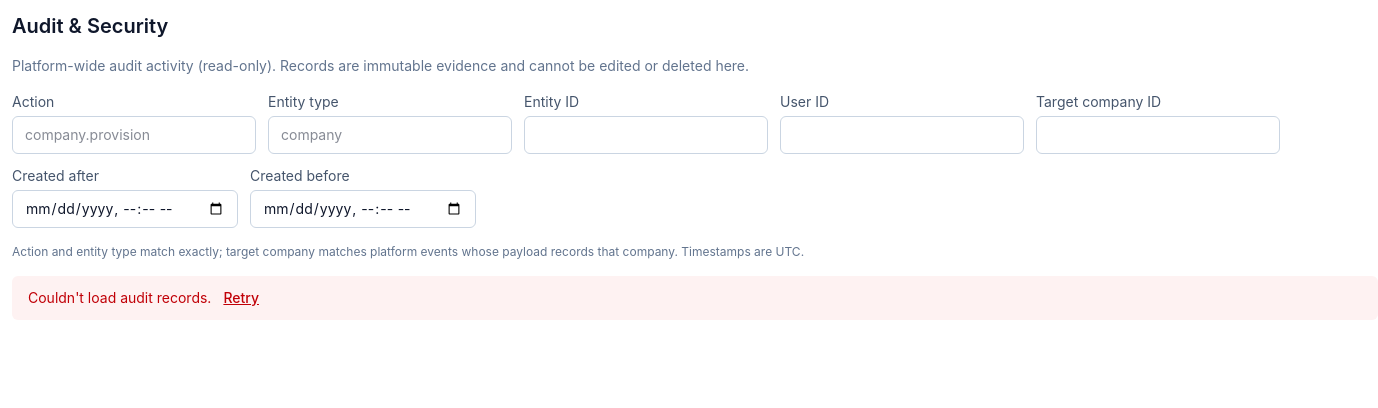
Test: AdminAuditPage › shows an error state and retries
Expected: the message shows "Couldn't load audit records.", [28,289,211,306]
Click the button "Retry" at (241, 298), box [223,288,259,308]
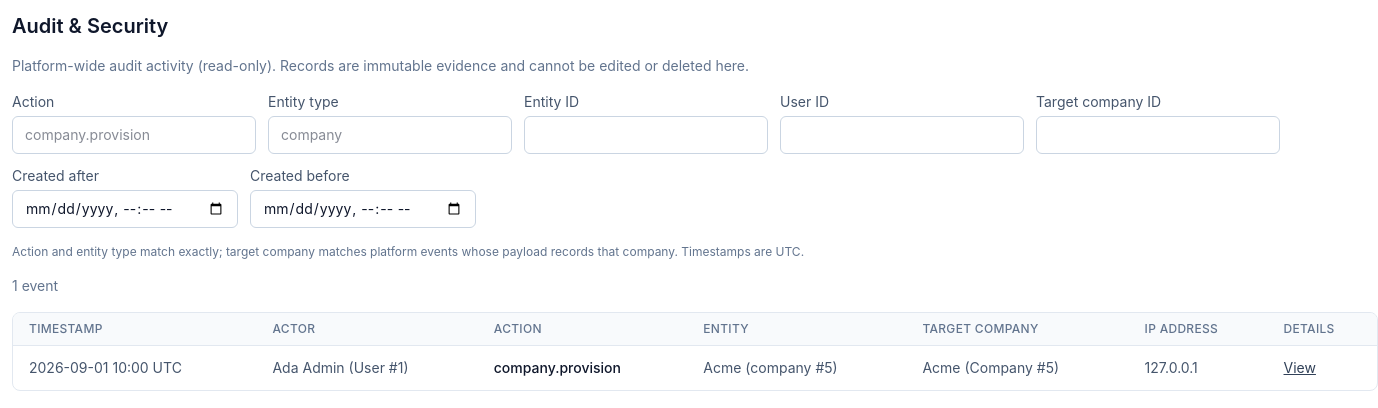
Expected: the text "company.provision" is shown, [478,346,687,390]
